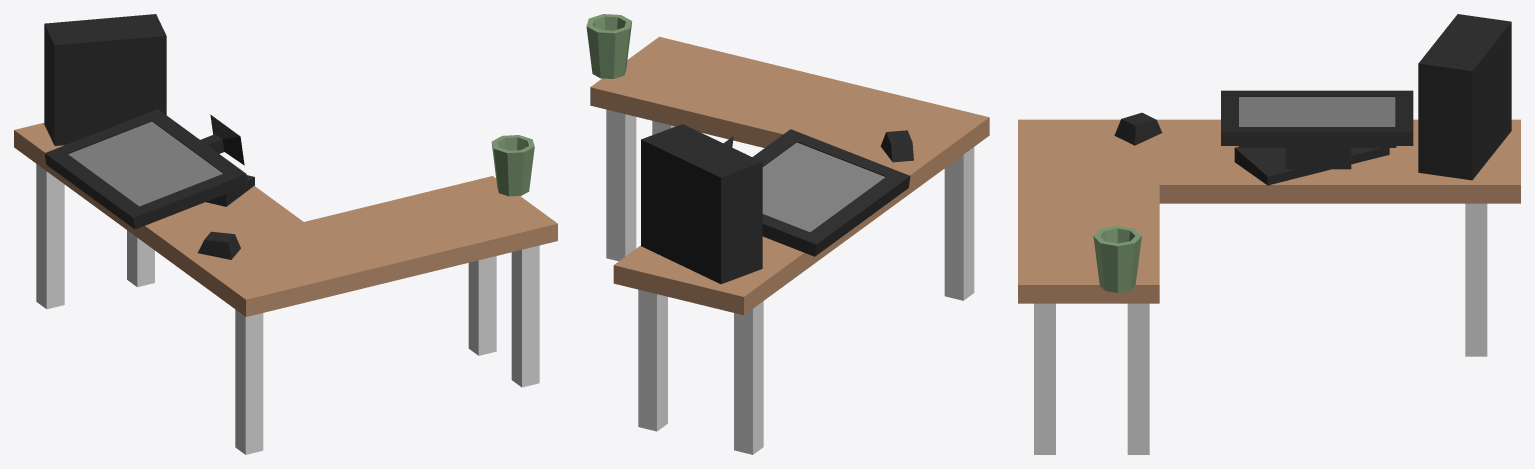
Rendered from LDeskD.fbx.
3 renders of one model, left to right at view 1: azimuth 30°, elevation 25°; view 2: azimuth 150°, elevation 25°; view 3: azimuth 270°, elevation 25°, orthographic. The views are drawn at different scales.
Visible parts, largest first — view 1: desktop, PC, MonitorO, Screen, leg, leg.003, leg.001, leg.004, Cylinder, leg.002, Stand, Cube; view 2: desktop, PC, Screen, MonitorO, leg.004, leg, leg.001, leg.002, Cylinder, Cube; view 3: desktop, PC, MonitorO, Screen, leg.002, leg.004, leg.003, Cylinder, Stand, keyboard, Cube.
Part boxes in pixels (bbox=[...]): desktop: bbox=[14, 122, 557, 316]; PC: bbox=[44, 14, 166, 145]; MonitorO: bbox=[44, 109, 247, 229]; Screen: bbox=[68, 121, 222, 206]; leg: bbox=[235, 309, 263, 454]; leg.003: bbox=[511, 245, 539, 387]; leg.001: bbox=[36, 164, 64, 309]; leg.004: bbox=[468, 256, 496, 355]; Cylinder: bbox=[491, 135, 534, 196]; leg.002: bbox=[127, 230, 154, 287]; Stand: bbox=[200, 114, 244, 165]; Cube: bbox=[198, 231, 240, 259]; desktop: bbox=[590, 36, 989, 315]; PC: bbox=[641, 124, 762, 284]; Screen: bbox=[762, 142, 885, 232]; MonitorO: bbox=[752, 129, 910, 256]; leg.004: bbox=[606, 109, 636, 261]; leg: bbox=[944, 147, 974, 300]; leg.001: bbox=[734, 301, 763, 454]; leg.002: bbox=[638, 289, 667, 431]; Cylinder: bbox=[586, 14, 632, 78]; Cube: bbox=[880, 130, 913, 162]; desktop: bbox=[1018, 119, 1520, 303]; PC: bbox=[1418, 14, 1511, 180]; MonitorO: bbox=[1221, 90, 1413, 147]; Screen: bbox=[1239, 97, 1395, 126]; leg.002: bbox=[1465, 203, 1487, 356]; leg.004: bbox=[1127, 303, 1149, 454]; leg.003: bbox=[1034, 303, 1055, 454]; Cylinder: bbox=[1093, 225, 1141, 292]; Stand: bbox=[1285, 134, 1351, 169]; keyboard: bbox=[1234, 146, 1389, 185]; Cube: bbox=[1114, 112, 1162, 145].
Size of the model in its own units: 615 by 444 by 703.
